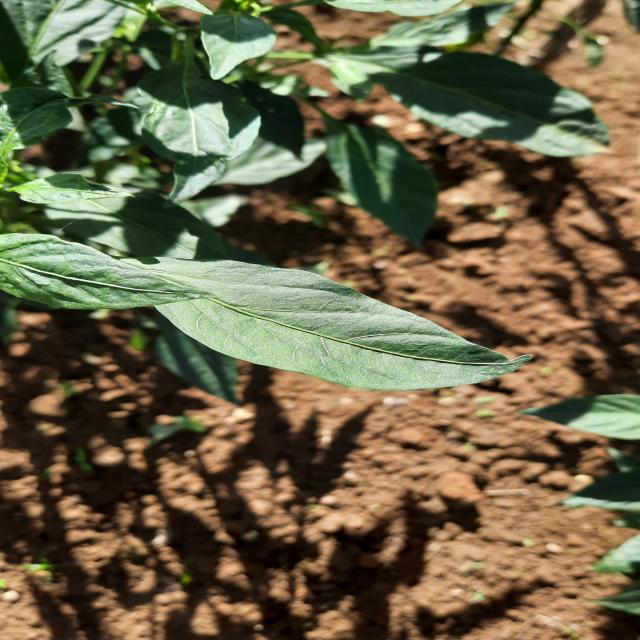sehat: (107, 250, 520, 416), (0, 234, 212, 320)
